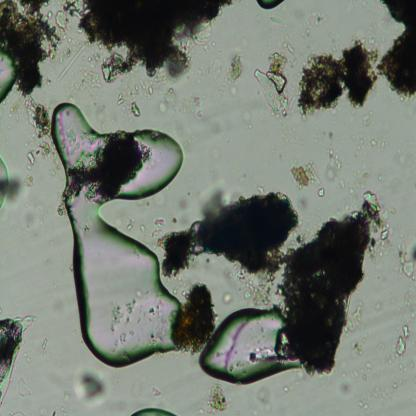Air bubble: (49, 101, 186, 365), (198, 303, 295, 388), (0, 45, 17, 106), (131, 402, 176, 416), (255, 0, 286, 15)
Background material: (283, 185, 386, 388), (57, 0, 232, 88), (294, 40, 380, 118), (0, 0, 60, 93), (378, 0, 415, 102), (0, 310, 36, 412), (166, 278, 216, 350), (251, 39, 294, 120), (157, 228, 197, 279), (69, 364, 107, 408), (22, 96, 52, 150), (290, 160, 326, 198), (0, 154, 22, 209), (200, 379, 232, 414), (394, 239, 416, 287), (21, 201, 44, 239), (114, 92, 147, 115), (346, 298, 366, 334), (224, 54, 246, 86), (394, 323, 408, 366), (10, 374, 34, 399), (325, 152, 341, 182), (157, 86, 174, 114), (348, 337, 366, 361), (364, 137, 386, 153), (190, 95, 205, 118), (26, 148, 37, 165)
Fragment: (197, 190, 296, 266)
Glass filter fibre: (56, 45, 84, 81)
